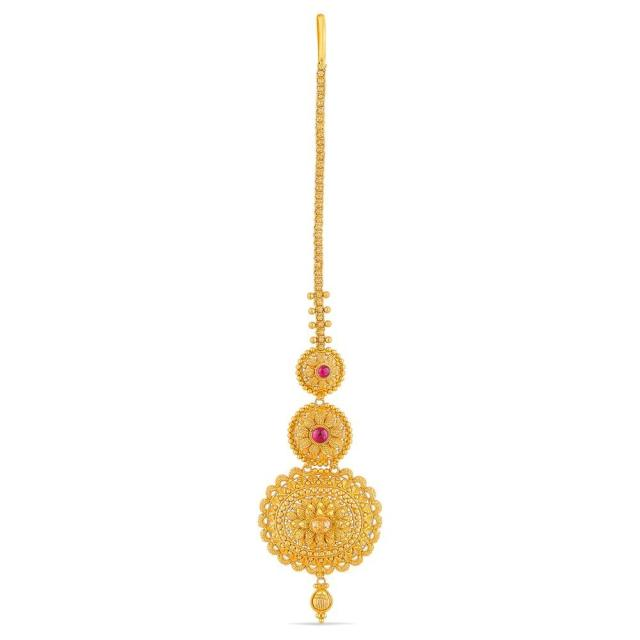missing gem: (312, 519, 330, 532)
